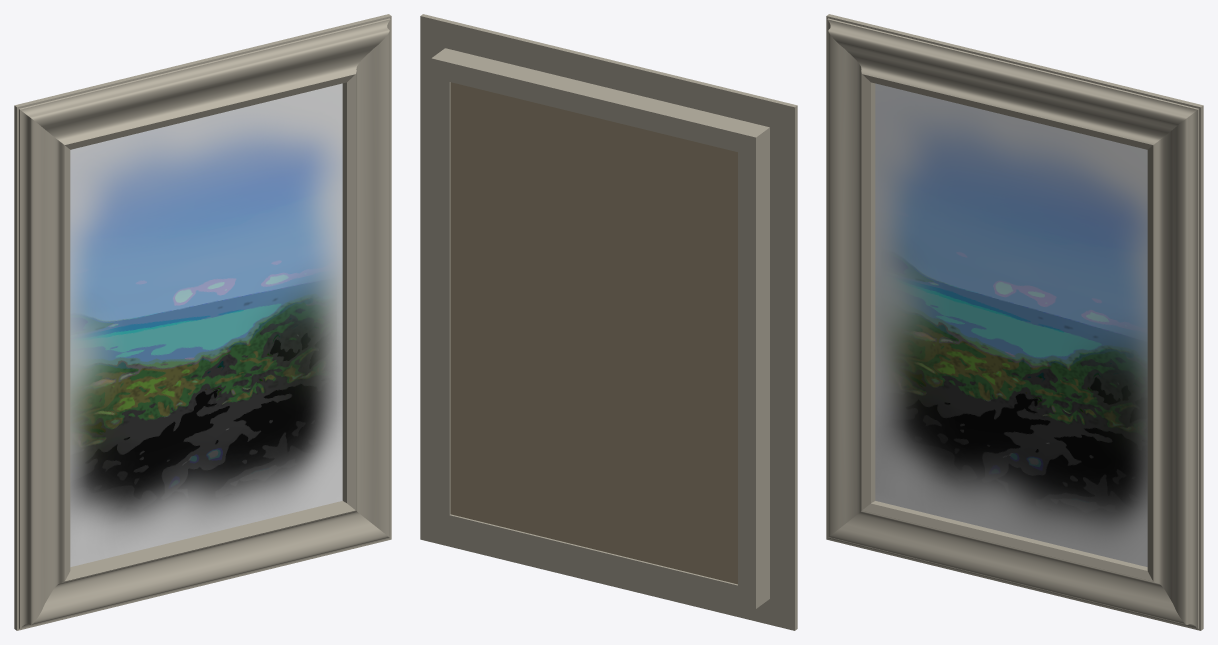
Rendered from 369_額縁中.glb.
3 renders of one model, left to right at view 1: azimuth 30°, elevation 25°; view 2: azimuth 150°, elevation 25°; view 3: azimuth 330°, elevation 25°, orthographic.
Visible parts, largest first — view 1: 369_額縁(中); view 2: 369_額縁(中); view 3: 369_額縁(中).
Part boxes in pixels (bbox=[...]): 369_額縁(中): bbox=[14, 14, 391, 630]; 369_額縁(中): bbox=[420, 14, 797, 630]; 369_額縁(中): bbox=[826, 14, 1203, 630].
Bounding box in the file's own units: 0.411 × 0.549 × 0.0445.
Materials: 4 (1 with a texture image).
